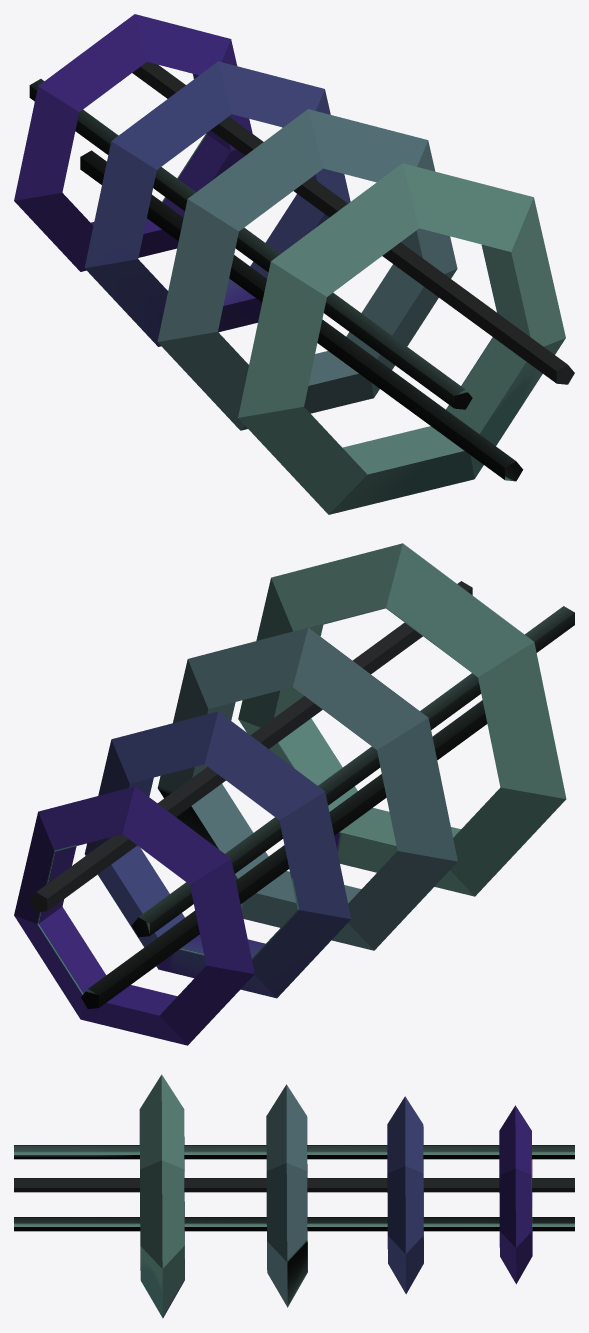
File: lazer.obj
3 views of the same model, one above another, from view 1: azimuth 30°, elevation 25°; view 2: azimuth 150°, elevation 25°; view 3: azimuth 270°, elevation 25° (orthographic). The views are drawn at different scales.
Visible parts, largest first — view 1: Torus.001; view 2: Torus.001; view 3: Torus.001.
Boxes of the visible parts, <box> form: Torus.001: <box>14,14,574,514</box>; Torus.001: <box>14,543,574,1045</box>; Torus.001: <box>14,1074,574,1318</box>.
Size of the model in its own units: 1.94 by 1.9 by 4.36.
